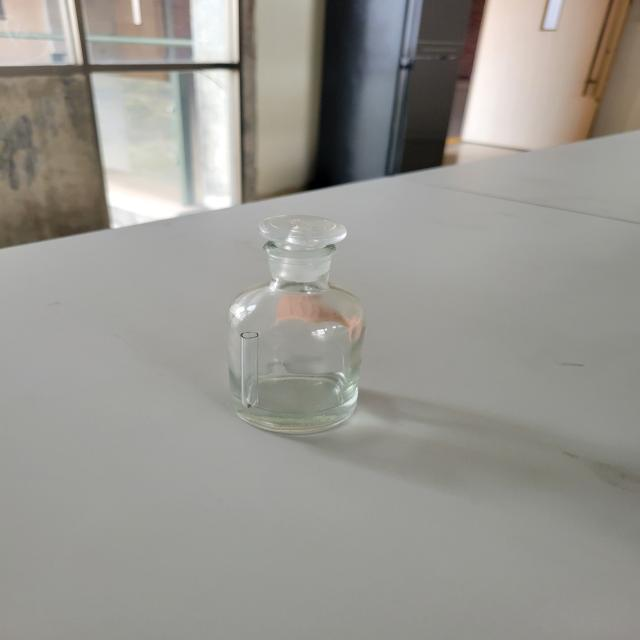Reagent_Bottle: (155, 173, 434, 456)
